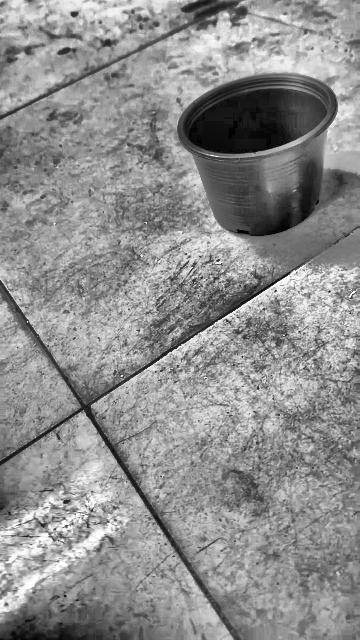pot: (177, 73, 338, 237)
